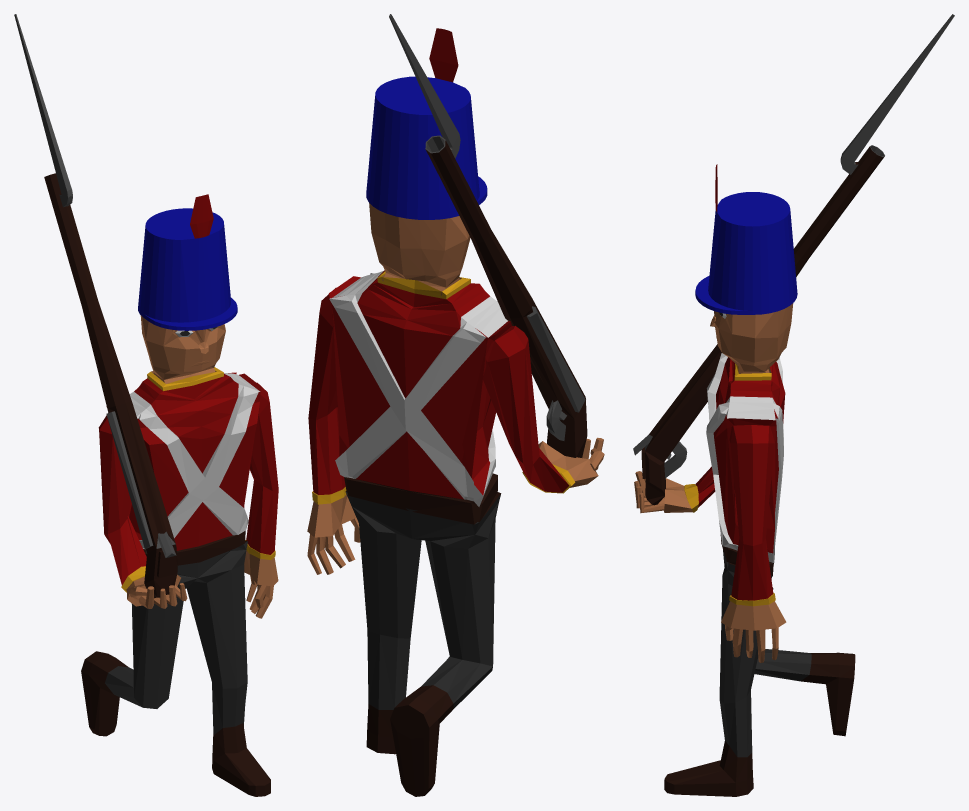
The model's file is Infantry_000147.obj.
3 views of the same model, side by side, from view 1: azimuth 30°, elevation 25°; view 2: azimuth 150°, elevation 25°; view 3: azimuth 270°, elevation 25° (orthographic). The views are drawn at different scales.
Parts seen in each view (by area): view 1: {Man}_Circle, {Mesket}_Cube.001; view 2: {Man}_Circle, {Mesket}_Cube.001; view 3: {Man}_Circle, {Mesket}_Cube.001.
Part boxes in pixels (bbox=[...]): {Man}_Circle: bbox=[81, 194, 278, 796]; {Mesket}_Cube.001: bbox=[14, 14, 177, 598]; {Man}_Circle: bbox=[307, 28, 604, 796]; {Mesket}_Cube.001: bbox=[389, 14, 587, 457]; {Man}_Circle: bbox=[634, 164, 855, 796]; {Mesket}_Cube.001: bbox=[633, 14, 954, 505].
Bounding box in the file's own units: 5.63 × 19.62 × 7.93.
